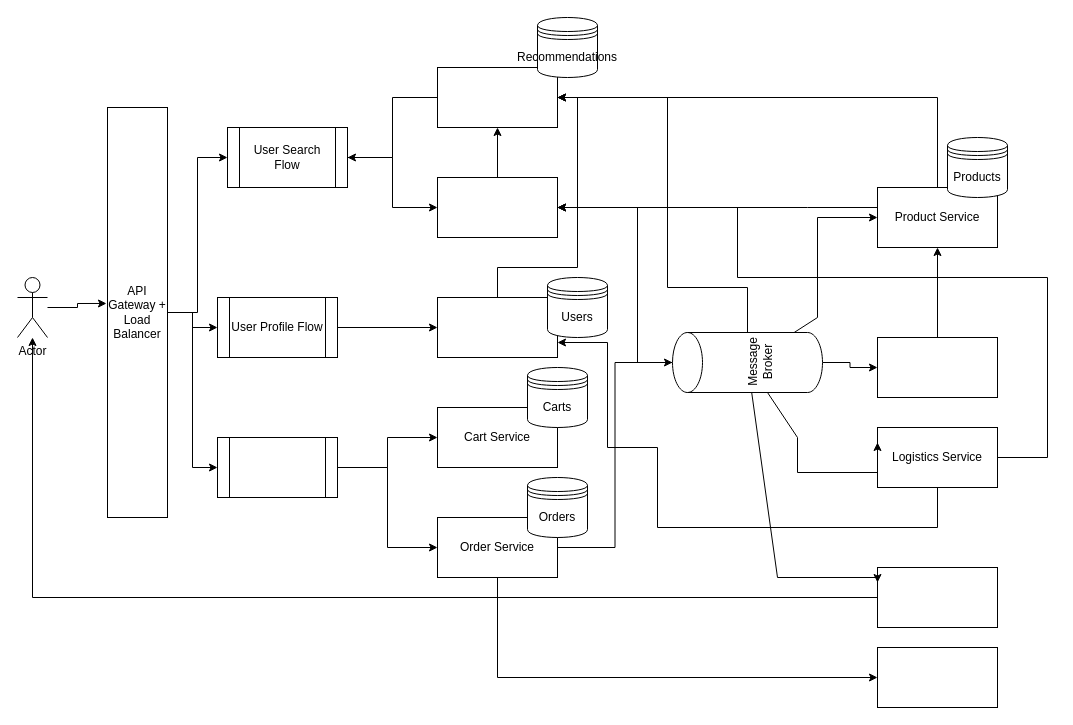
Some shapes in this 1073 by 725 pixel diagram are drawn without their labels. The shapes that lost their labels are listed below. From the top down, each one's box as (x1, y1, x2, y2) in pixels, then its label:
(436, 66, 558, 128): Recommendation service
(436, 176, 558, 238): Search Service
(436, 296, 558, 358): User Service
(876, 336, 998, 398): Seller Service
(216, 436, 338, 498): User Purchase Flow
(876, 566, 998, 628): Notification Service
(876, 646, 998, 708): Payment Service
